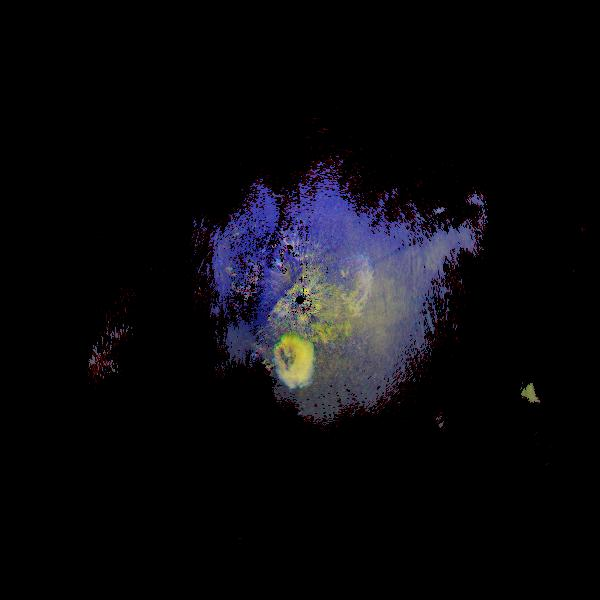roost: (314, 256, 404, 346), (517, 346, 595, 424), (261, 329, 330, 398)
